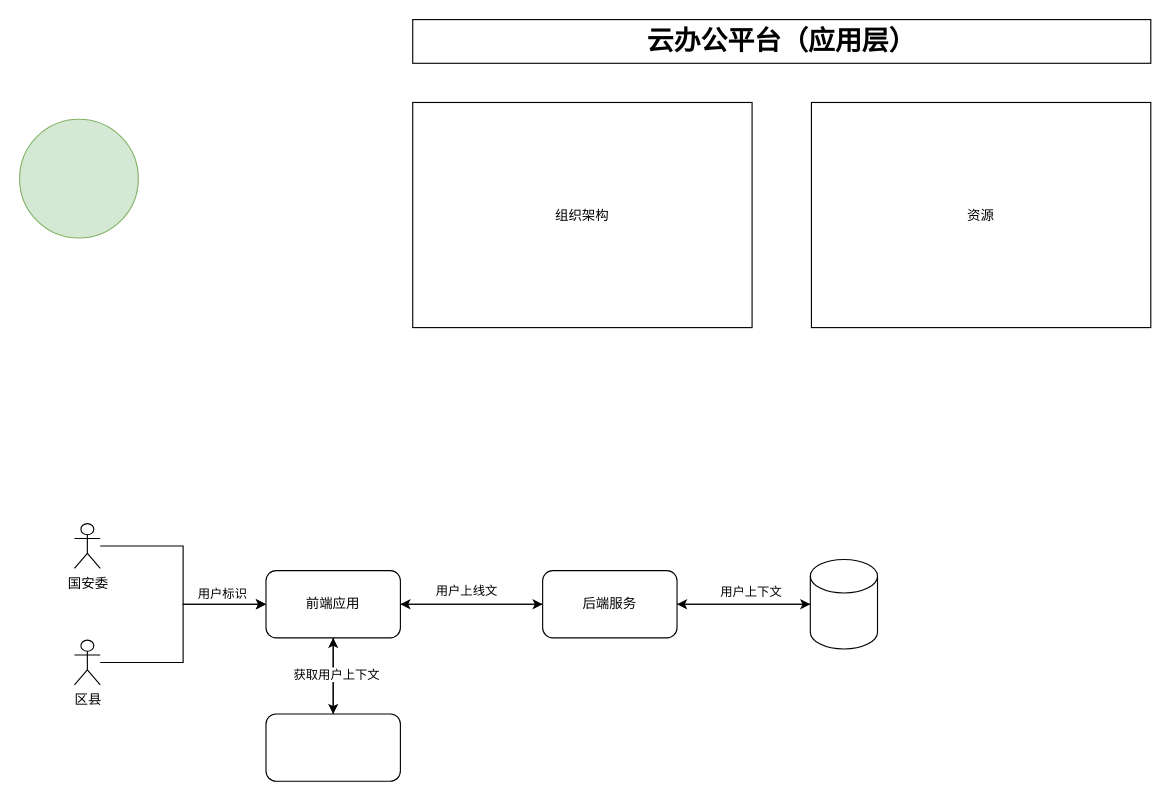
This 1170x801 diagram has some shape labels left out. Here are the shapes that lost their labels. From the top down, the centre of each, then its label:
At point (78, 178): "数据交换平台".
At point (843, 603): "数据库".
At point (332, 747): "用户身份识别服务".
